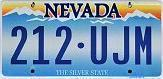placa de veiculo: (3, 0, 159, 77)
